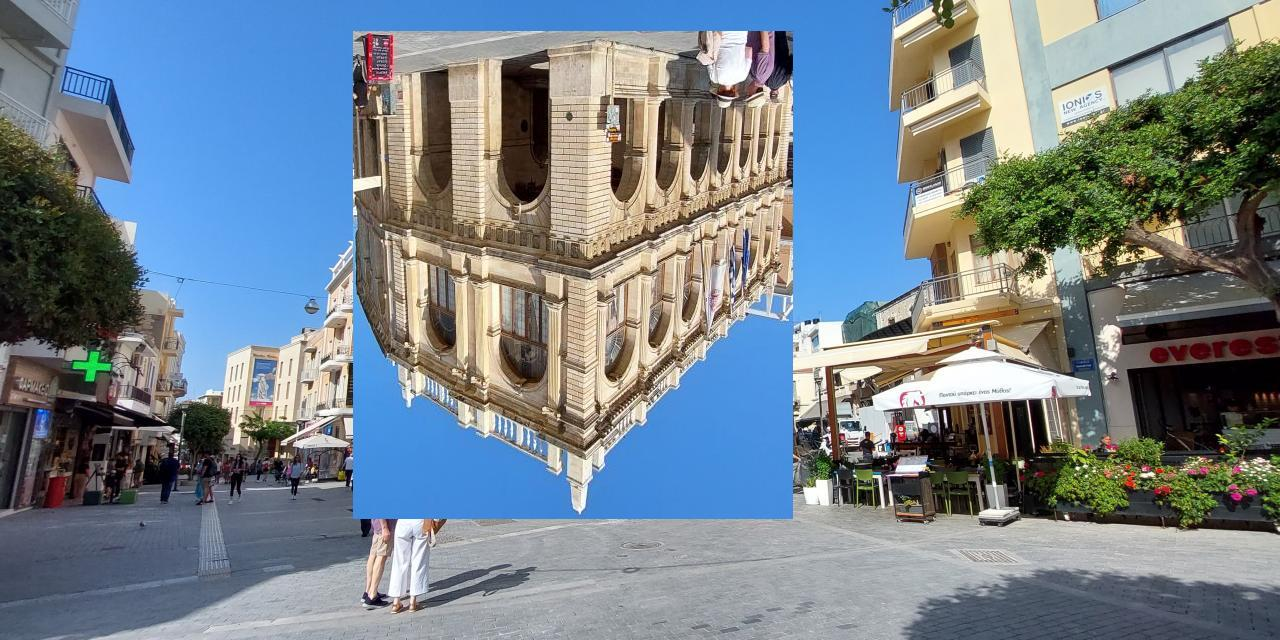Loggia: (354, 32, 794, 520)
